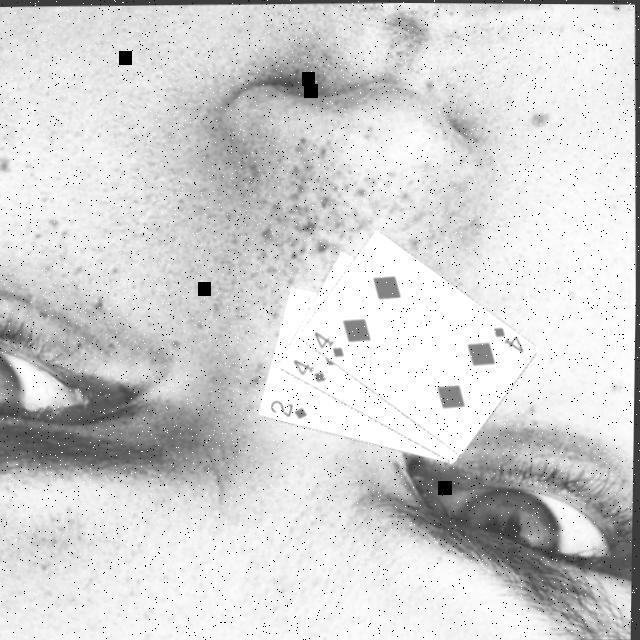2D: (268, 396, 312, 422)
4D: (311, 328, 348, 361), (491, 323, 528, 356), (290, 356, 330, 386)
